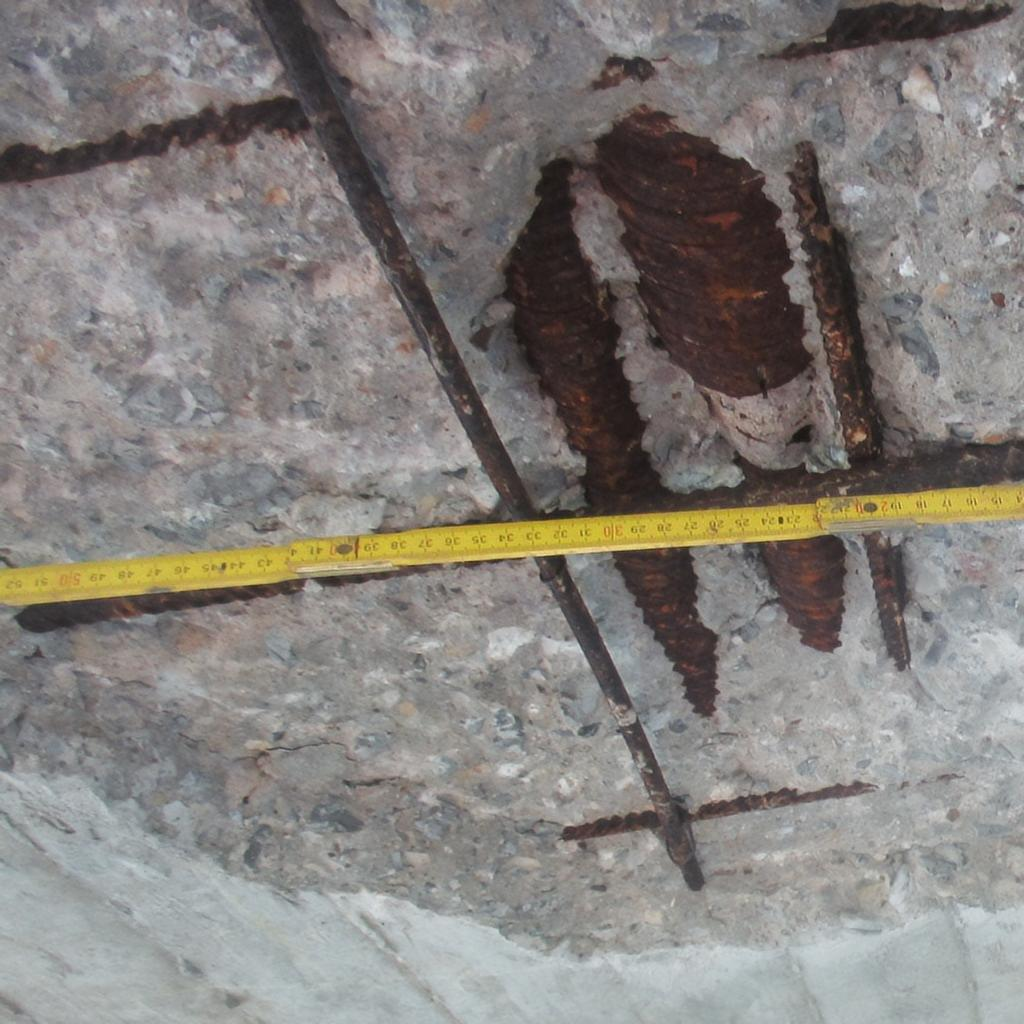exposed_rebar: (0, 0, 536, 517), (504, 110, 1024, 512), (540, 558, 866, 886), (617, 548, 718, 706), (780, 4, 1008, 60), (18, 584, 292, 629), (762, 538, 846, 641), (864, 532, 910, 670), (596, 56, 656, 88)
spalling: (0, 0, 1024, 948)
